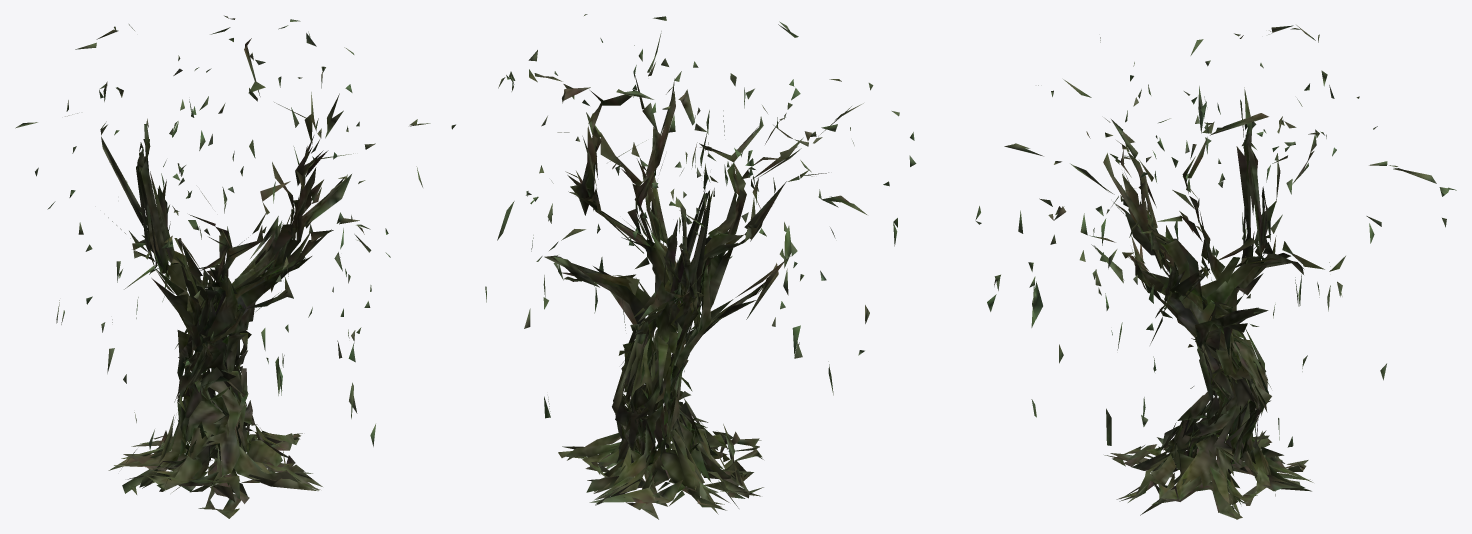
Rendered from salgueiro_brejo_adulta-lod.glb.
The picture shows the model from 3 angles, left to right: view 1: azimuth 30°, elevation 25°; view 2: azimuth 150°, elevation 25°; view 3: azimuth 270°, elevation 25°; orthographic projection.
Parts seen in each view (by area): view 1: geometry_0; view 2: geometry_0; view 3: geometry_0.
Part boxes in pixels (bbox=[...]): geometry_0: bbox=[15, 15, 455, 518]; geometry_0: bbox=[485, 14, 916, 519]; geometry_0: bbox=[975, 25, 1456, 519].
Size of the model in its own units: 0.8354 by 0.9752 by 0.9484.
1 material, 1 textured.
